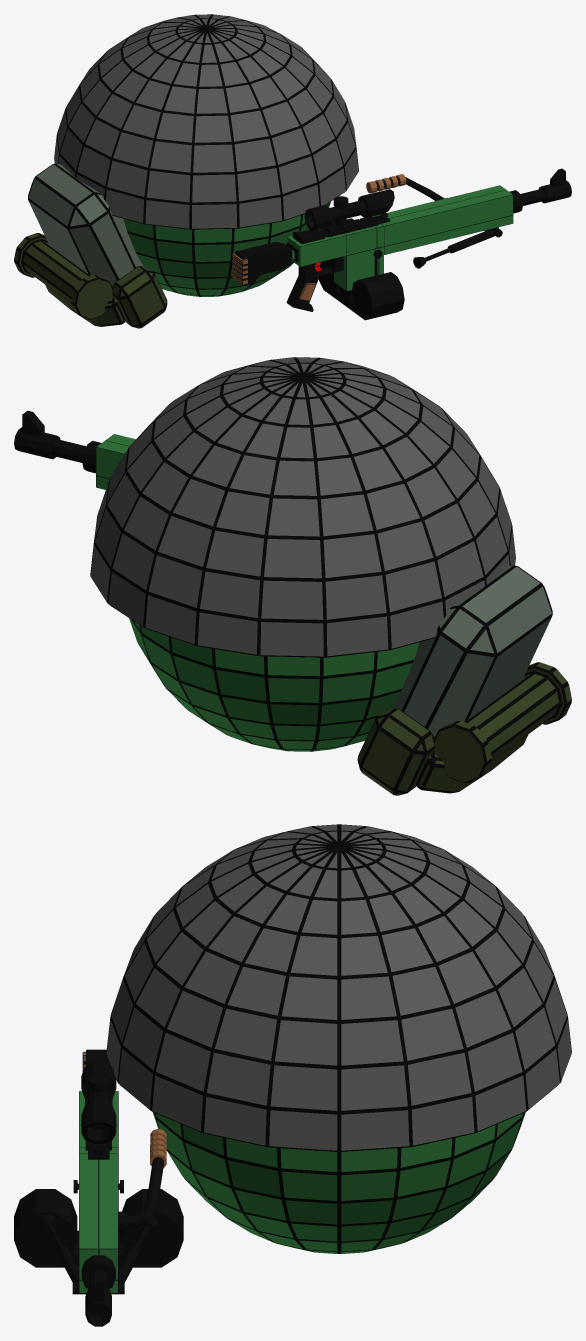
The model's file is MachineGunSoldiers.fbx.
3 renders of one model, top to bottom at view 1: azimuth 30°, elevation 25°; view 2: azimuth 150°, elevation 25°; view 3: azimuth 270°, elevation 25°, orthographic. The views are drawn at different scales.
Visible parts, largest first — view 1: Sphere.001, Cube.002, MachineGun, MachineGunMagazine, MachineGunScope, MachineGunBarrel, MachineGun1, MachineGun.001, MachineGunScope.001; view 2: Sphere.001, Cube.002, MachineGunBarrel, MachineGun; view 3: Sphere.001, MachineGunMagazine, MachineGun, MachineGunScope, MachineGunBarrel, MachineGun.001, MachineGun1.
Part boxes in pixels (box(x1,y1,x2,y2)): Sphere.001: box(54, 14, 358, 296); Cube.002: box(14, 163, 167, 328); MachineGun: box(232, 185, 513, 311); MachineGunMagazine: box(318, 260, 404, 320); MachineGunScope: box(304, 189, 394, 231); MachineGunBarrel: box(509, 168, 571, 213); MachineGun1: box(366, 174, 446, 200); MachineGun.001: box(413, 227, 502, 268); MachineGunScope.001: box(324, 196, 358, 234); Sphere.001: box(90, 357, 515, 751); Cube.002: box(357, 565, 571, 795); MachineGunBarrel: box(14, 410, 101, 473); MachineGun: box(96, 434, 135, 489); Sphere.001: box(106, 824, 571, 1253); MachineGunMagazine: box(14, 1189, 183, 1267); MachineGun: box(73, 1049, 123, 1292); MachineGunScope: box(81, 1061, 116, 1143); MachineGunBarrel: box(81, 1255, 115, 1326); MachineGun.001: box(39, 1215, 158, 1294); MachineGun1: box(118, 1128, 166, 1231).
Size of the model in its own units: 395 by 217 by 283.
